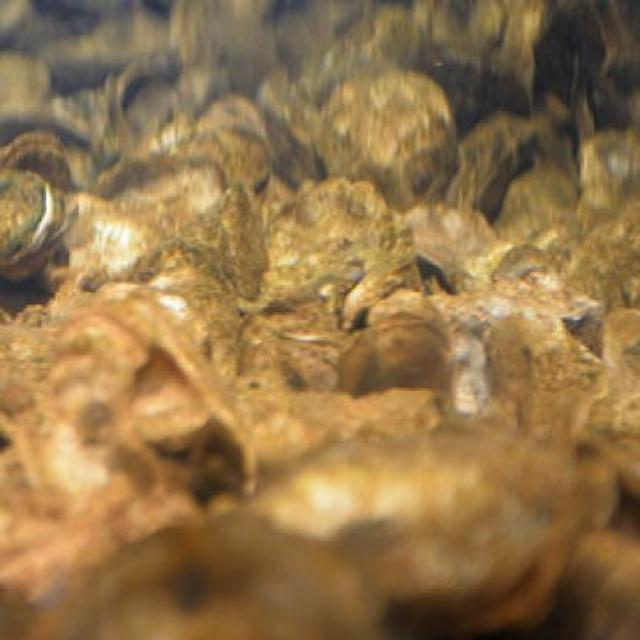Oyster-Closed: (239, 420, 580, 640), (11, 514, 389, 640), (322, 69, 459, 206), (266, 181, 401, 307), (451, 103, 539, 218), (0, 166, 72, 288), (337, 325, 459, 393), (216, 185, 266, 296), (0, 132, 81, 189)
